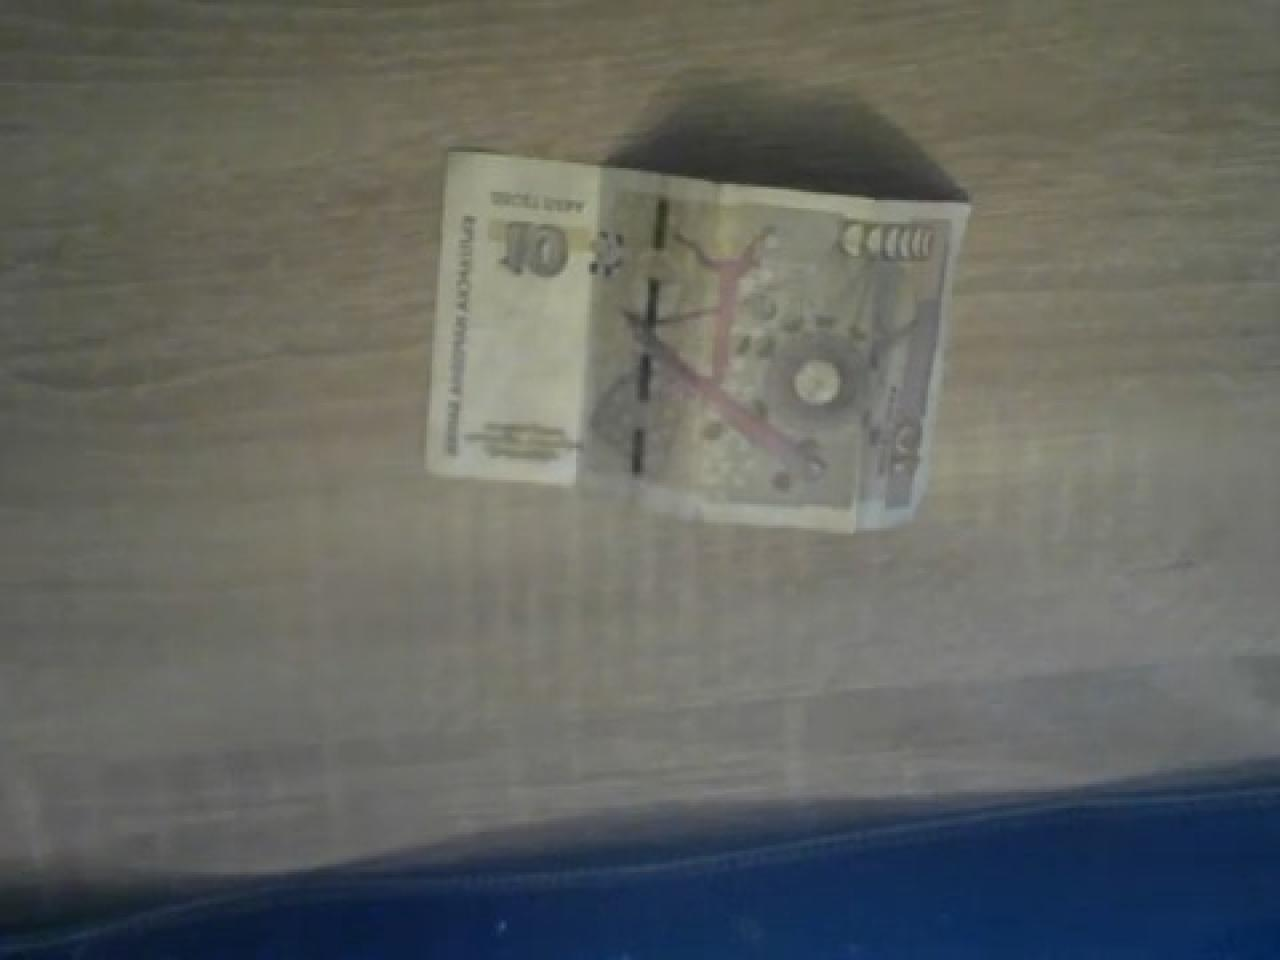10leva: (421, 144, 971, 530), (424, 144, 974, 530)
